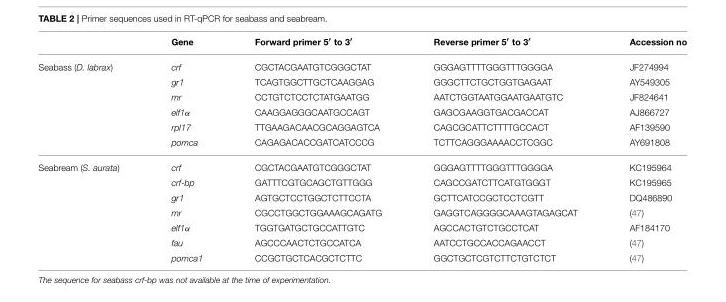table: (37, 37, 686, 262)
table column: (406, 37, 602, 262), (228, 37, 406, 262), (37, 37, 144, 262), (144, 37, 228, 262), (602, 37, 686, 262)
table column header: (37, 37, 686, 54)
table row: (37, 154, 686, 175), (37, 54, 686, 74), (37, 134, 686, 154), (37, 37, 686, 54), (37, 74, 686, 89), (37, 89, 686, 104), (37, 104, 686, 119), (37, 119, 686, 134), (37, 175, 686, 190), (37, 190, 686, 205), (37, 205, 686, 220), (37, 220, 686, 235), (37, 235, 686, 250), (37, 250, 686, 262)
table spanning cell: (37, 154, 144, 262), (37, 54, 144, 154)
